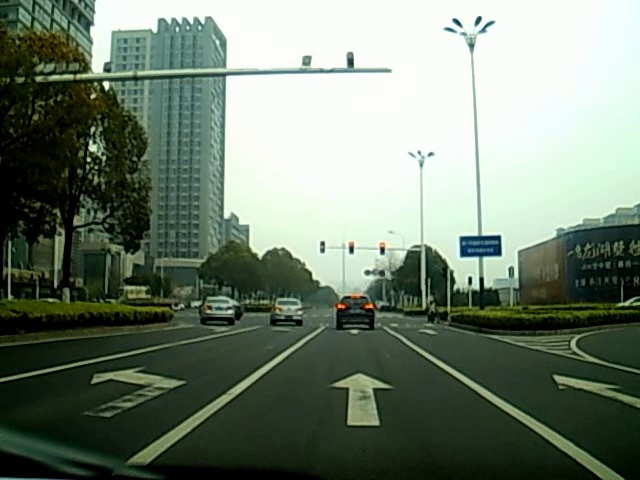Traffic_Light_stop: (379, 241, 386, 256), (348, 241, 355, 255)
